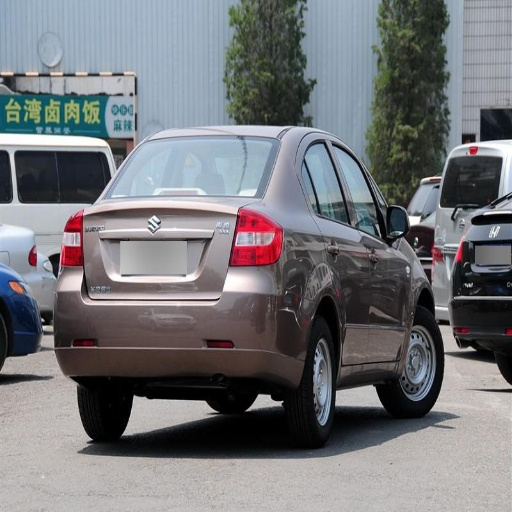back_bumper: (36, 264, 311, 385)
back_right_door: (299, 135, 371, 363)
